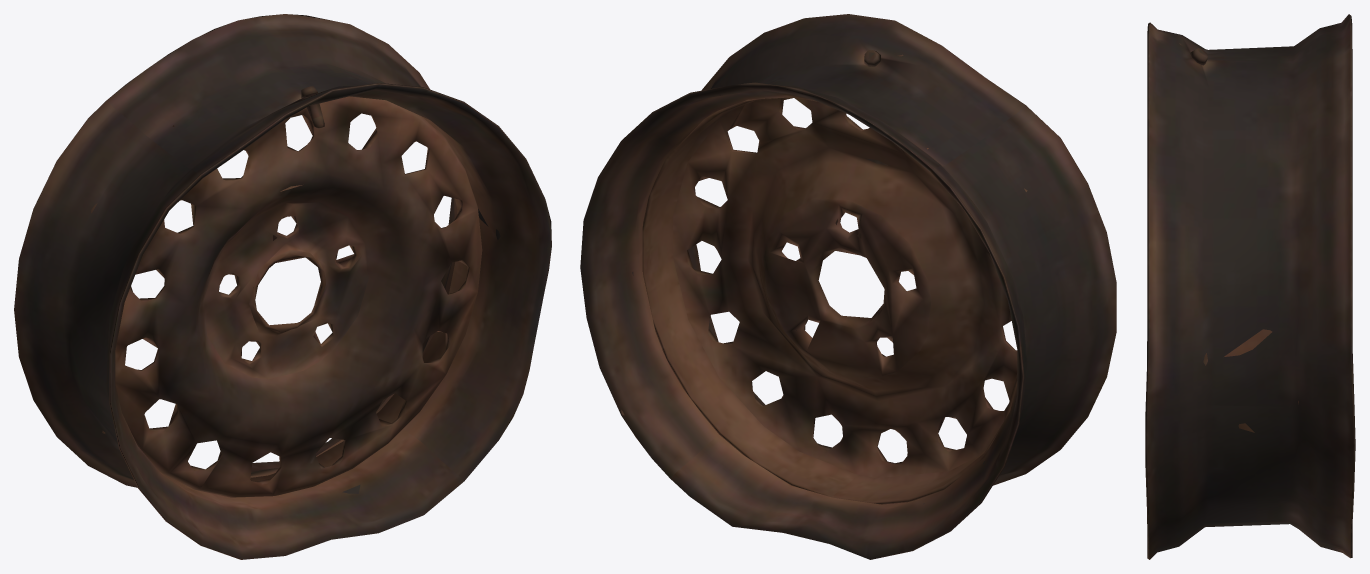
Rendered from ph_rusted_wheel_rim_01.glb.
The picture shows the model from 3 angles, left to right: view 1: azimuth 30°, elevation 25°; view 2: azimuth 150°, elevation 25°; view 3: azimuth 270°, elevation 25°; orthographic projection. The views are drawn at different scales.
Parts seen in each view (by area): view 1: rusted_wheel_rim_01; view 2: rusted_wheel_rim_01; view 3: rusted_wheel_rim_01.
Boxes of the visible parts, box(x1,y1,x2,y2) form: rusted_wheel_rim_01: box(14, 14, 551, 559); rusted_wheel_rim_01: box(580, 14, 1116, 559); rusted_wheel_rim_01: box(1145, 14, 1355, 559).
Bounding box in the file's own units: 0.4016 × 0.3938 × 0.1539.
1 material, 1 textured.
